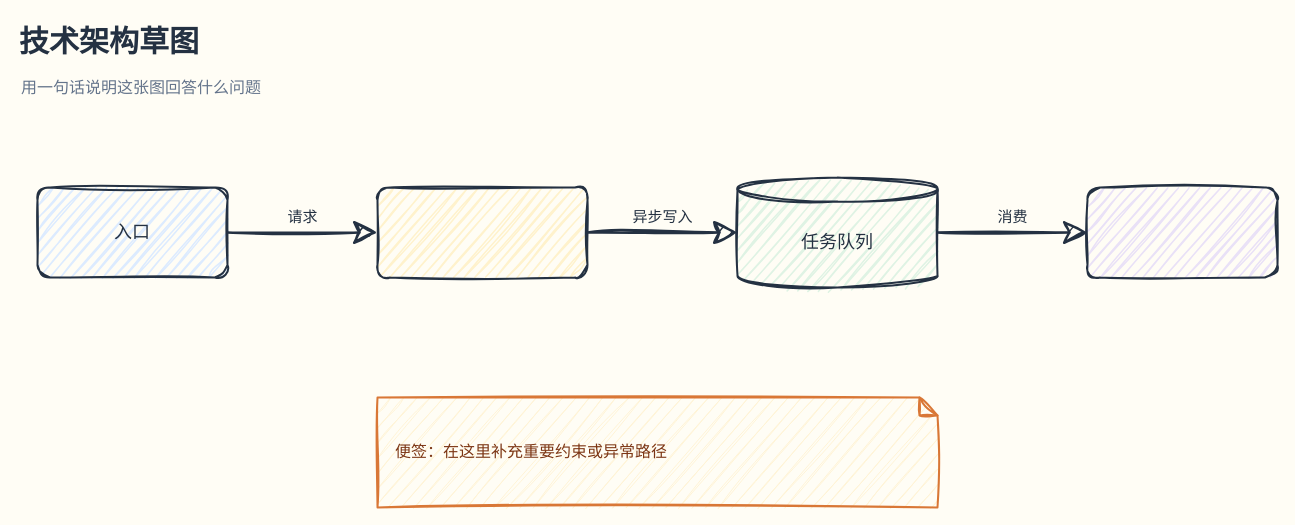
The diagram is 1295 pixels wide and 525 high, and some of its shapes have lost their labels. The centre of each missing label's shape, as x and y in pixels:
Worker: the point at 1182,232
核心服务: the point at 482,232
